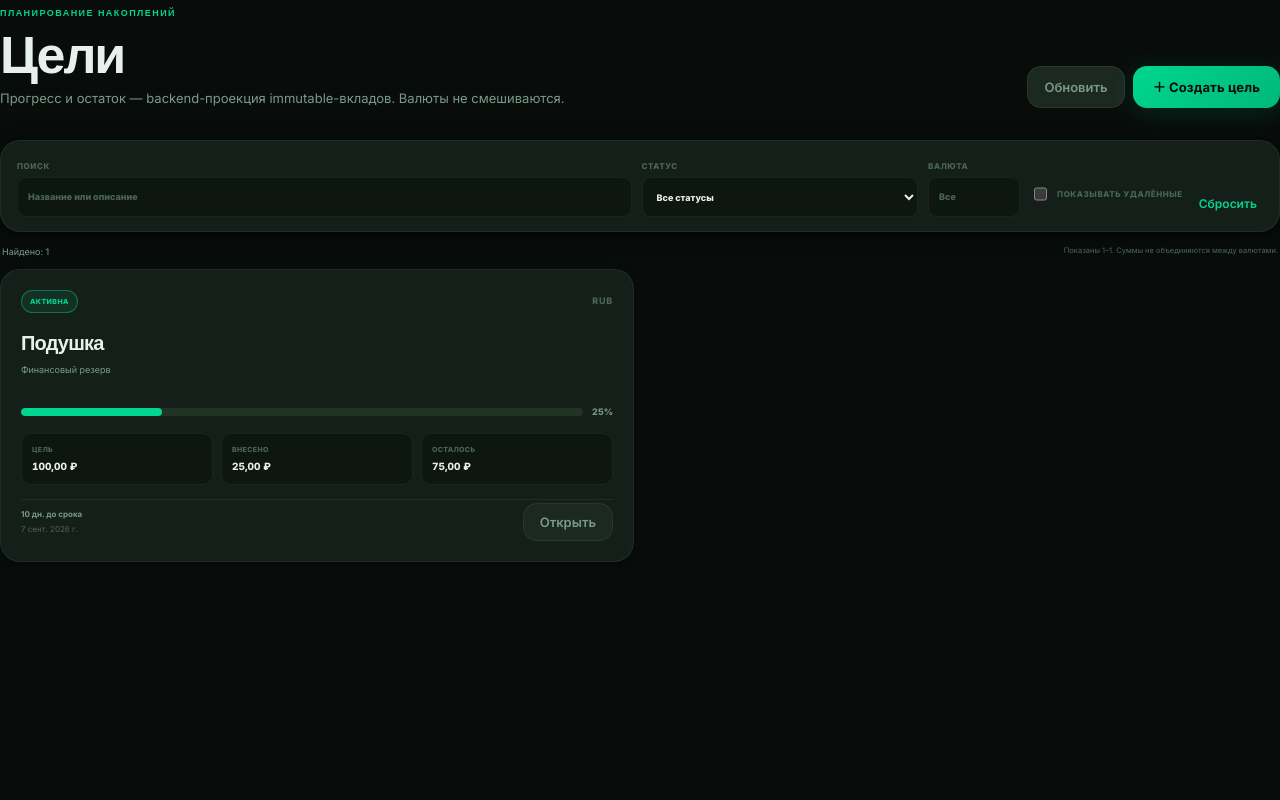
version conflict closes stale editor, reloads the goal and never retries automatically
Click the button "Открыть": (568, 522) [523,503,613,541]
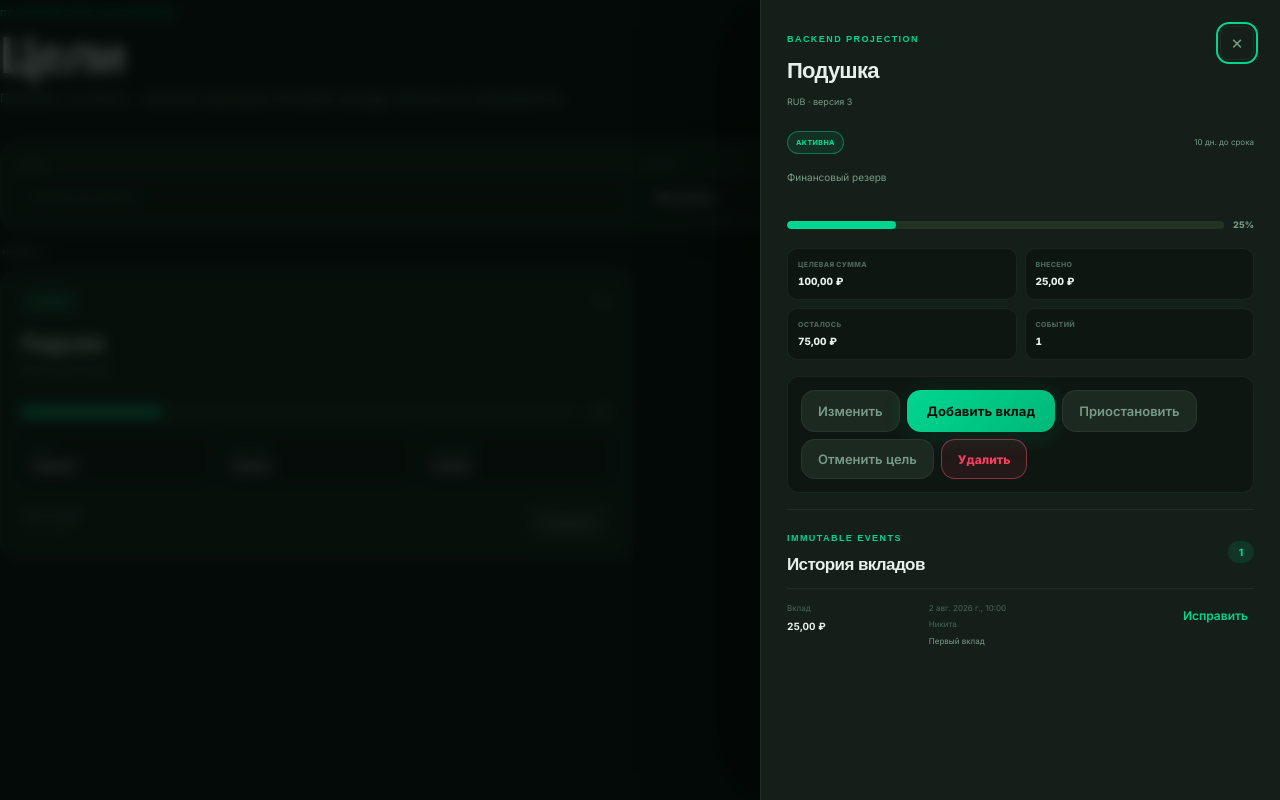
Click the button "Изменить": (850, 411) [801,390,900,432]
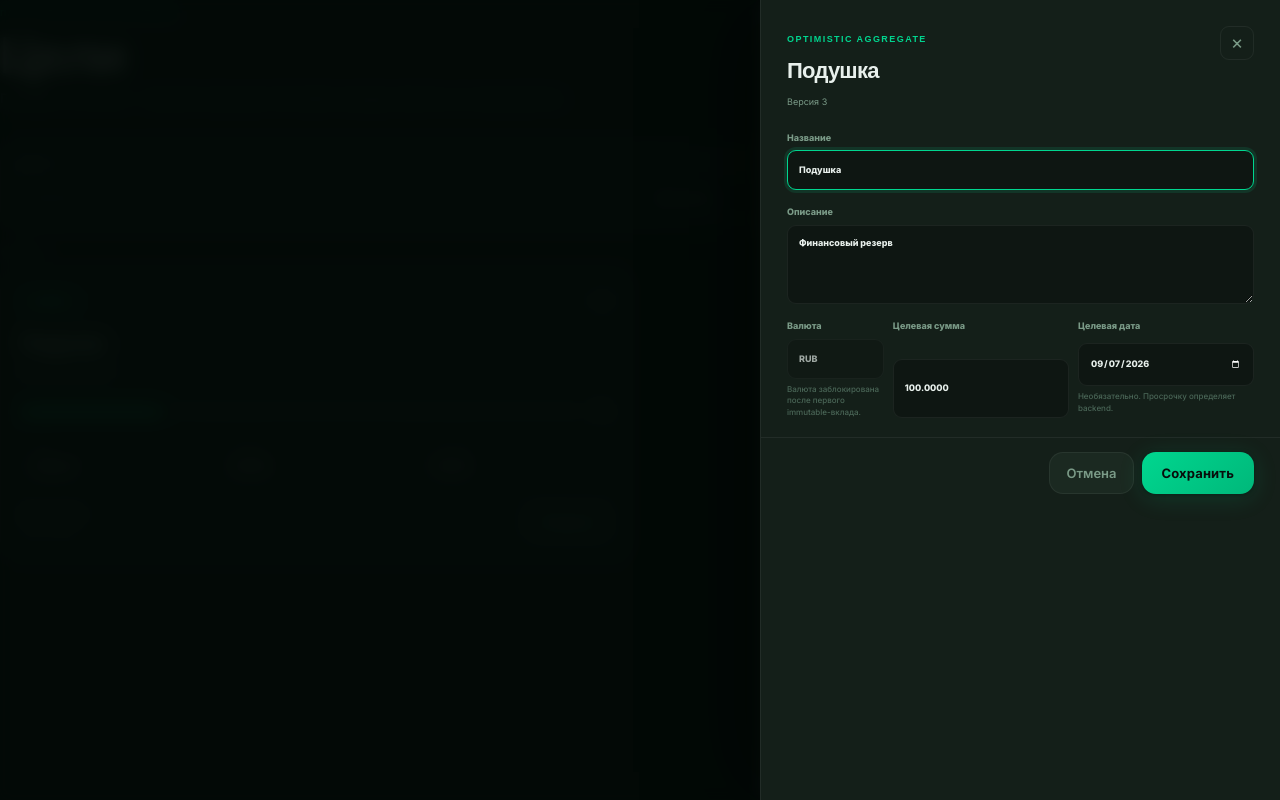
Submit the form, box [787,131,1254,492]
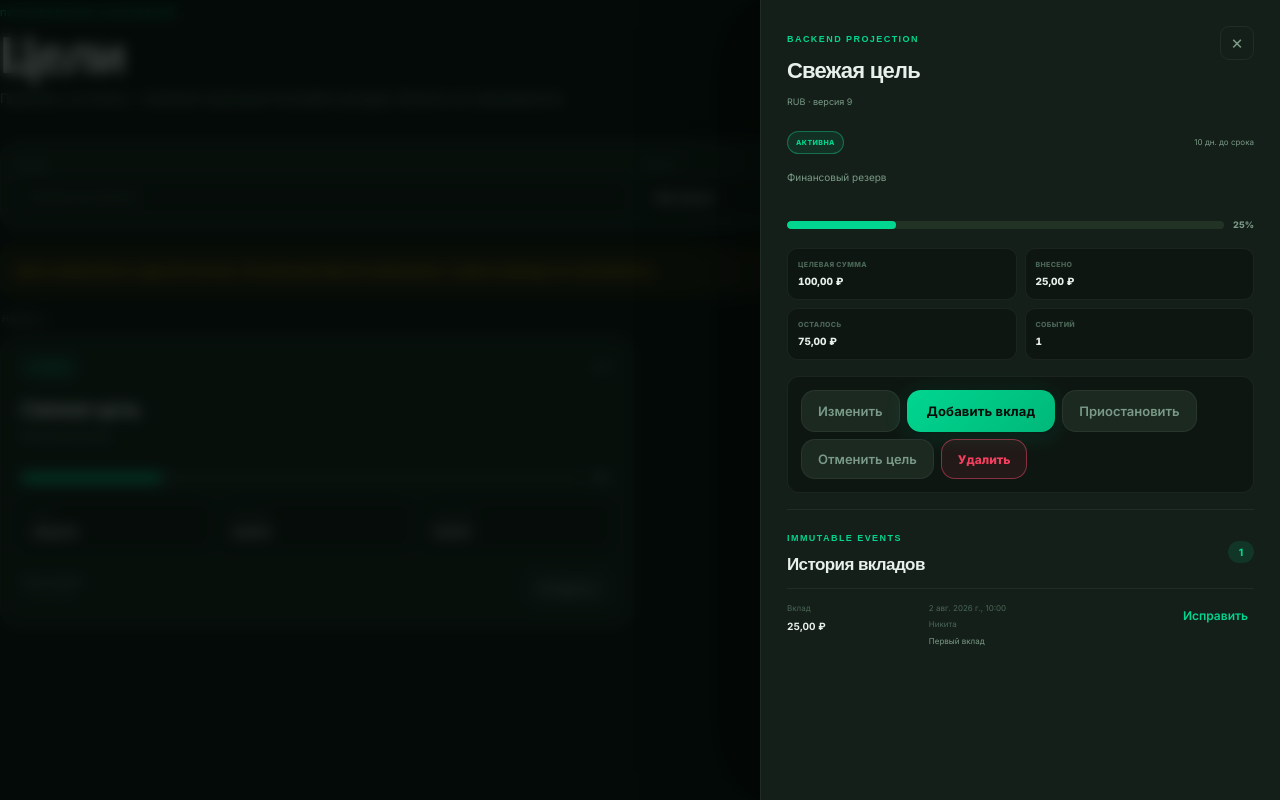
Expected: the dialog shows "Свежая цель", [787,58,920,83]
